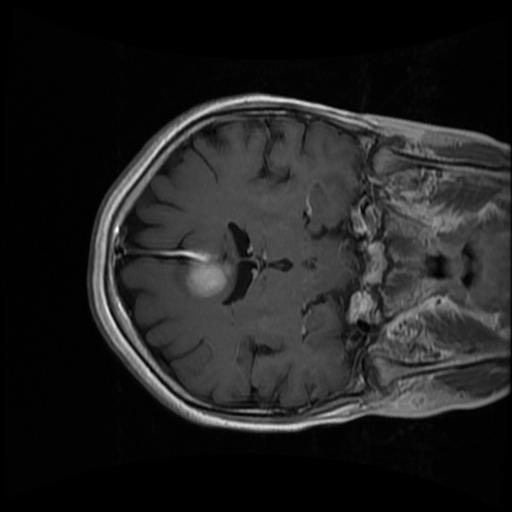meningioma: (186, 258, 228, 298)
